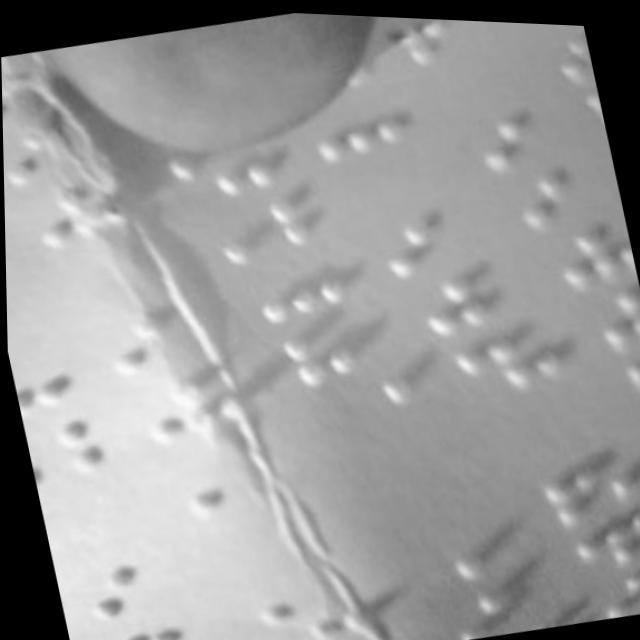braiile: (294, 65, 415, 164), (71, 544, 197, 630), (447, 312, 570, 400), (365, 191, 487, 279), (236, 242, 359, 326), (534, 432, 640, 529), (208, 176, 323, 265), (408, 256, 528, 338), (276, 309, 397, 390), (433, 562, 553, 640), (401, 498, 515, 579), (470, 93, 584, 172), (513, 147, 621, 226), (22, 412, 111, 492), (545, 208, 637, 285), (8, 347, 85, 422), (105, 604, 234, 640), (579, 280, 640, 347)
